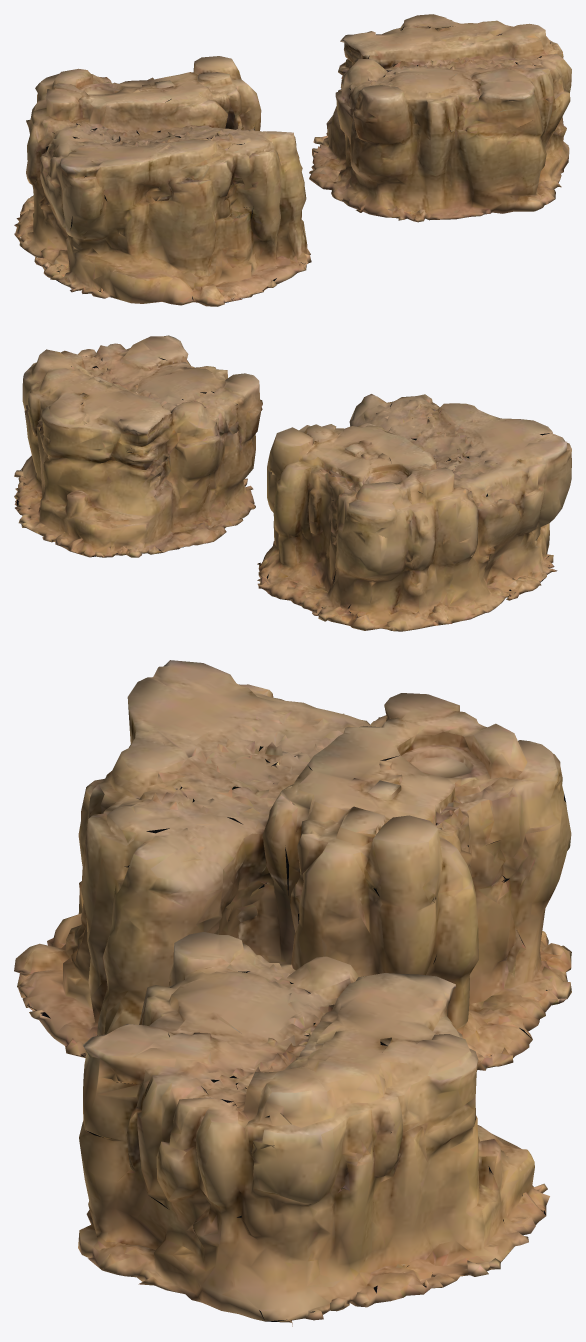
File: mesa_towers.glb
3 views of the same model, one above another, from view 1: azimuth 30°, elevation 25°; view 2: azimuth 150°, elevation 25°; view 3: azimuth 270°, elevation 25° (orthographic). The views are drawn at different scales.
Parts seen in each view (by area): view 1: mesa_towers_00, mesa_towers_01; view 2: mesa_towers_00, mesa_towers_01; view 3: mesa_towers_00, mesa_towers_01.
Boxes of the visible parts, x1,y1,x2,y2 form: mesa_towers_00: (14,56,311,306); mesa_towers_01: (309,14,571,222); mesa_towers_00: (257,394,571,631); mesa_towers_01: (14,335,262,557); mesa_towers_00: (14,660,571,1070); mesa_towers_01: (78,932,549,1326).
Bounding box in the file's own units: 1.89 × 0.4753 × 1.01.
Materials: 1 (1 with a texture image).
